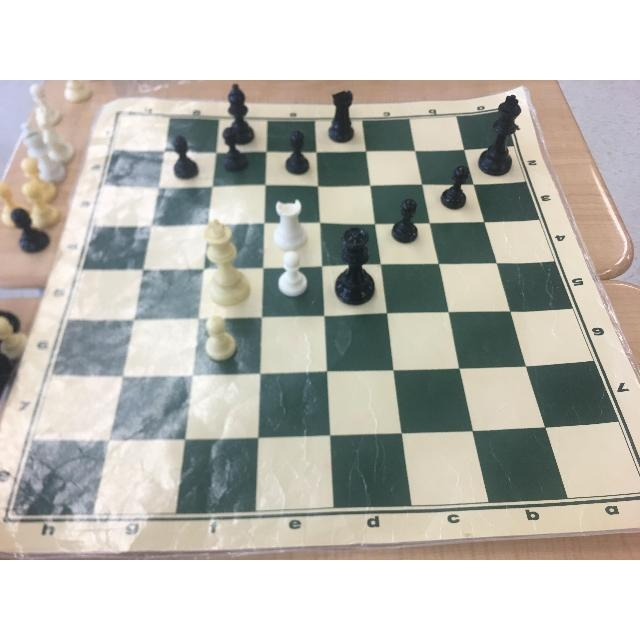black-bishop: (219, 82, 261, 136)
black-king: (487, 89, 523, 179)
black-pawn: (387, 194, 431, 246), (436, 161, 479, 214), (169, 130, 205, 182), (212, 127, 253, 168), (282, 126, 314, 169)
black-queen: (336, 218, 380, 312)
black-rook: (319, 90, 365, 154)
white-king: (198, 216, 252, 302)
white-pawn: (196, 312, 246, 370), (275, 248, 308, 290)
white-rook: (268, 198, 317, 251)
